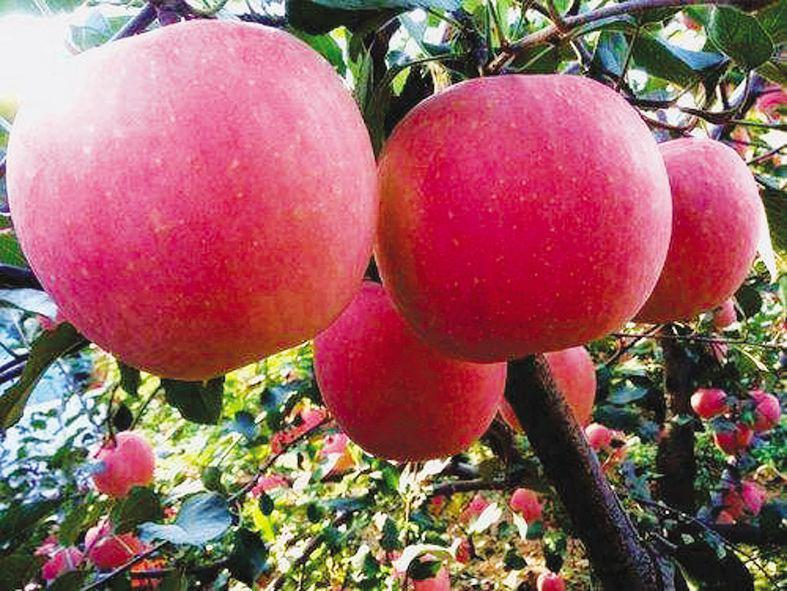apple: (7, 18, 384, 392), (375, 73, 672, 360), (311, 274, 508, 469), (626, 137, 774, 327), (500, 346, 596, 433)
